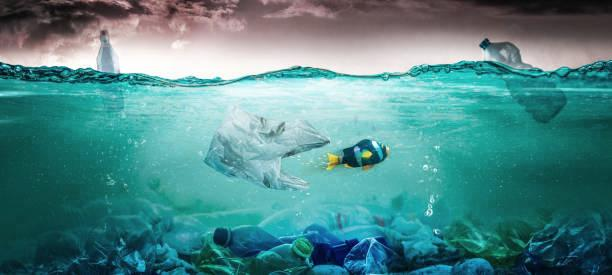Plastic: (209, 96, 327, 198), (478, 34, 568, 130), (213, 226, 316, 275), (95, 28, 128, 117)
